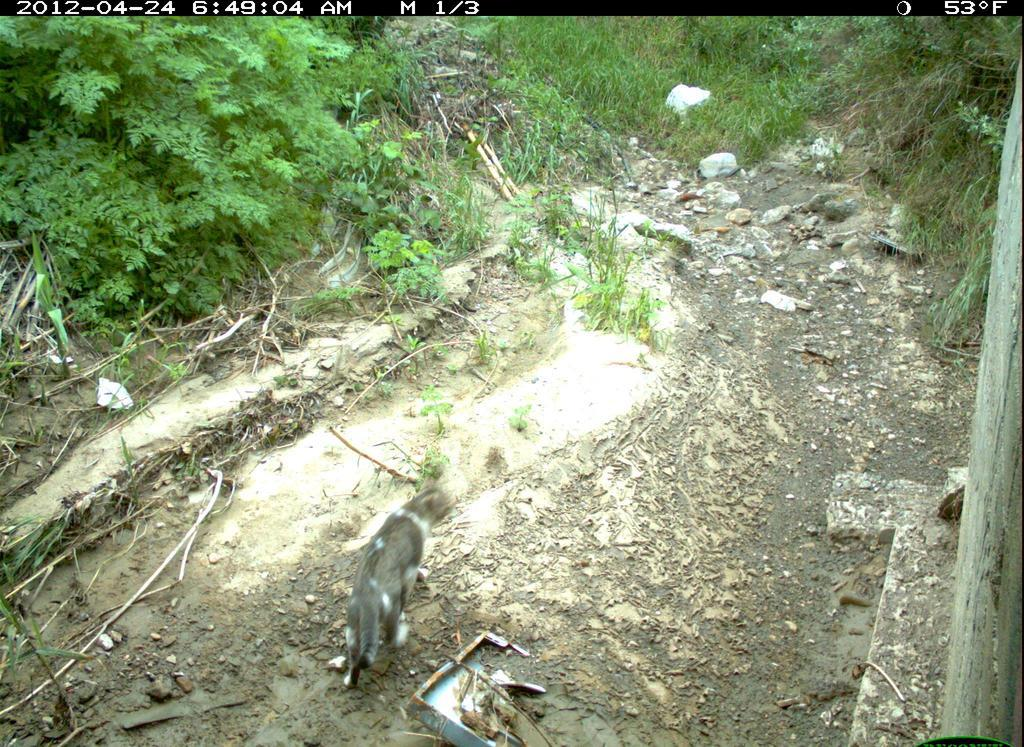cat: (309, 475, 463, 692)
